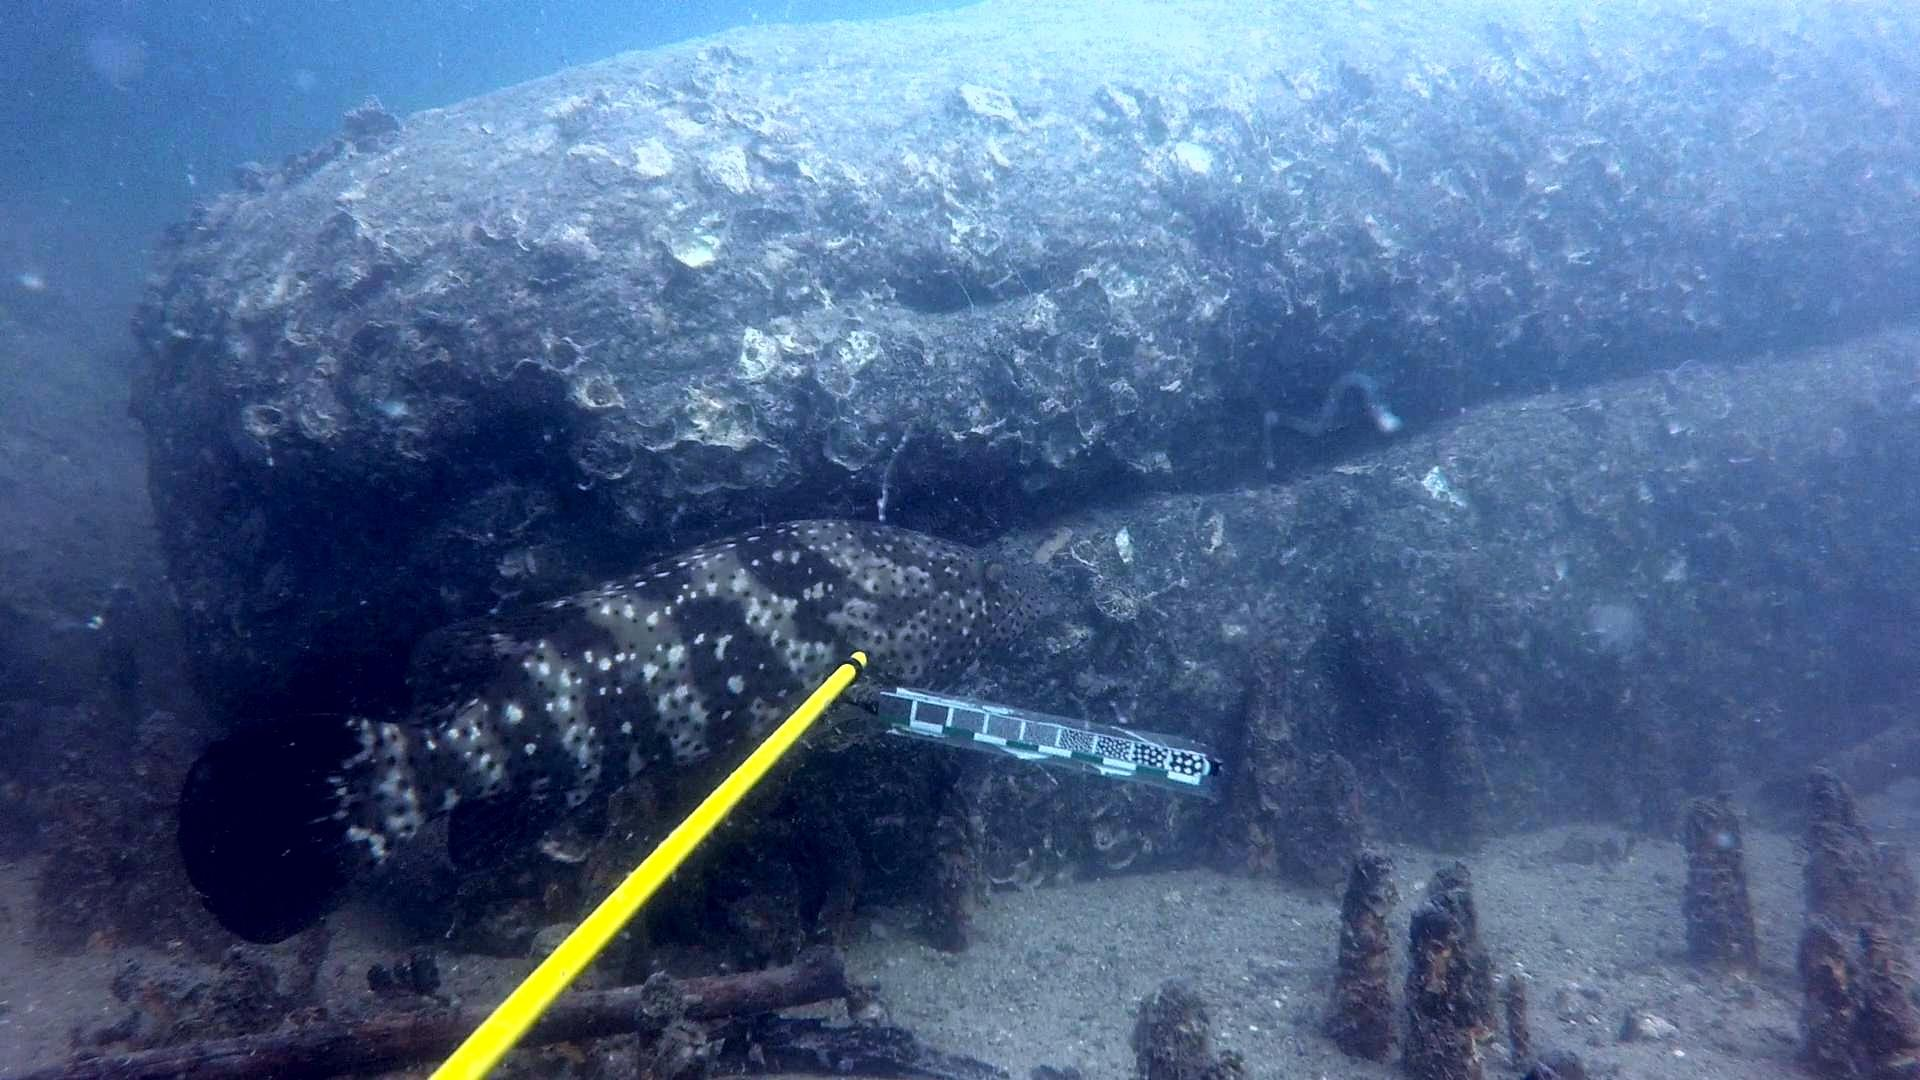epinephelus: (170, 511, 1045, 957)
